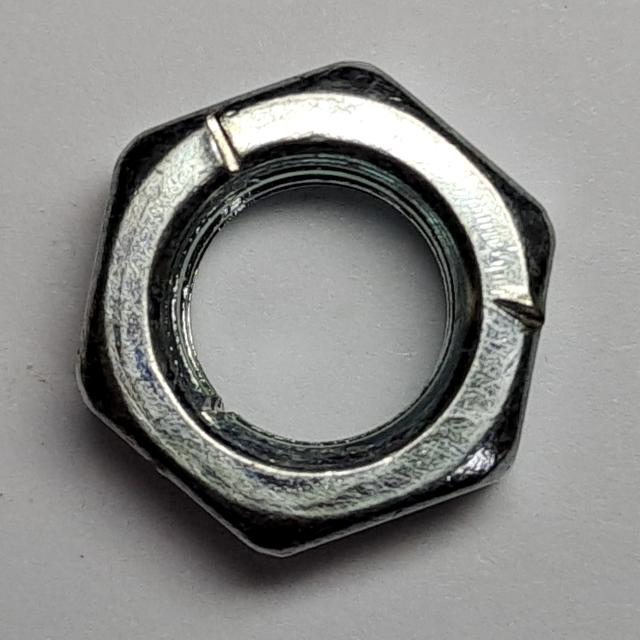Scratches: (66, 47, 570, 569)
